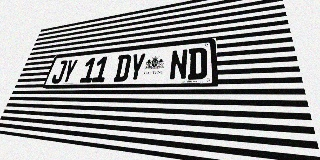1: (79, 57, 98, 83), (91, 56, 110, 82)
D: (187, 47, 207, 80), (113, 54, 132, 82)
J: (50, 60, 68, 84)
N: (169, 49, 188, 80)
Y: (127, 53, 146, 81), (60, 59, 78, 83)
